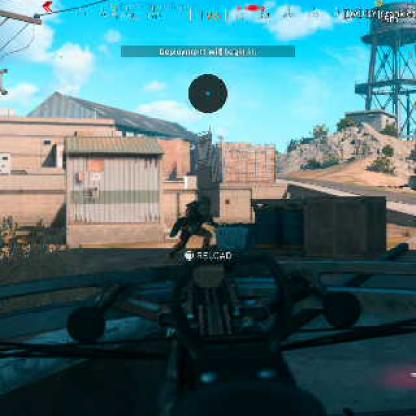enemy: (166, 195, 216, 253)
